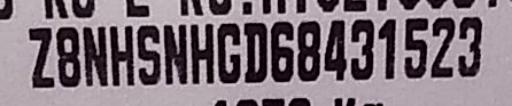letter: (25, 23, 55, 89), (79, 25, 109, 89), (188, 21, 216, 87), (54, 25, 82, 91), (400, 15, 428, 79), (268, 19, 296, 83), (294, 19, 322, 83), (162, 22, 190, 86), (108, 24, 136, 88), (216, 21, 242, 87), (457, 15, 483, 80), (429, 15, 455, 79), (322, 16, 348, 80), (348, 17, 374, 81), (242, 20, 268, 84), (136, 23, 162, 87), (375, 16, 397, 80)
